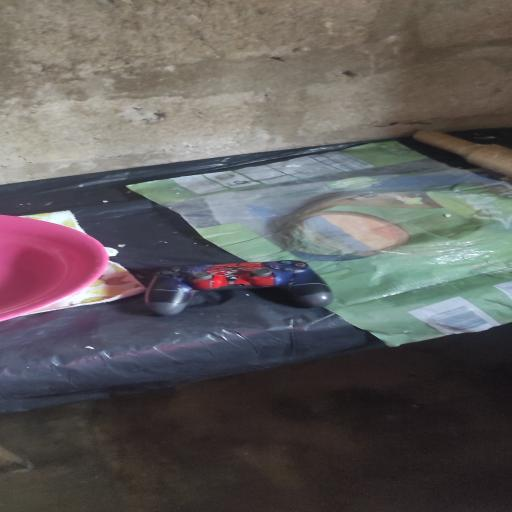ControlPlay4: (145, 260, 333, 316)
